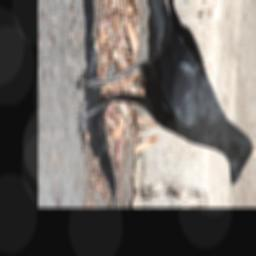Crow: (67, 0, 256, 193)
